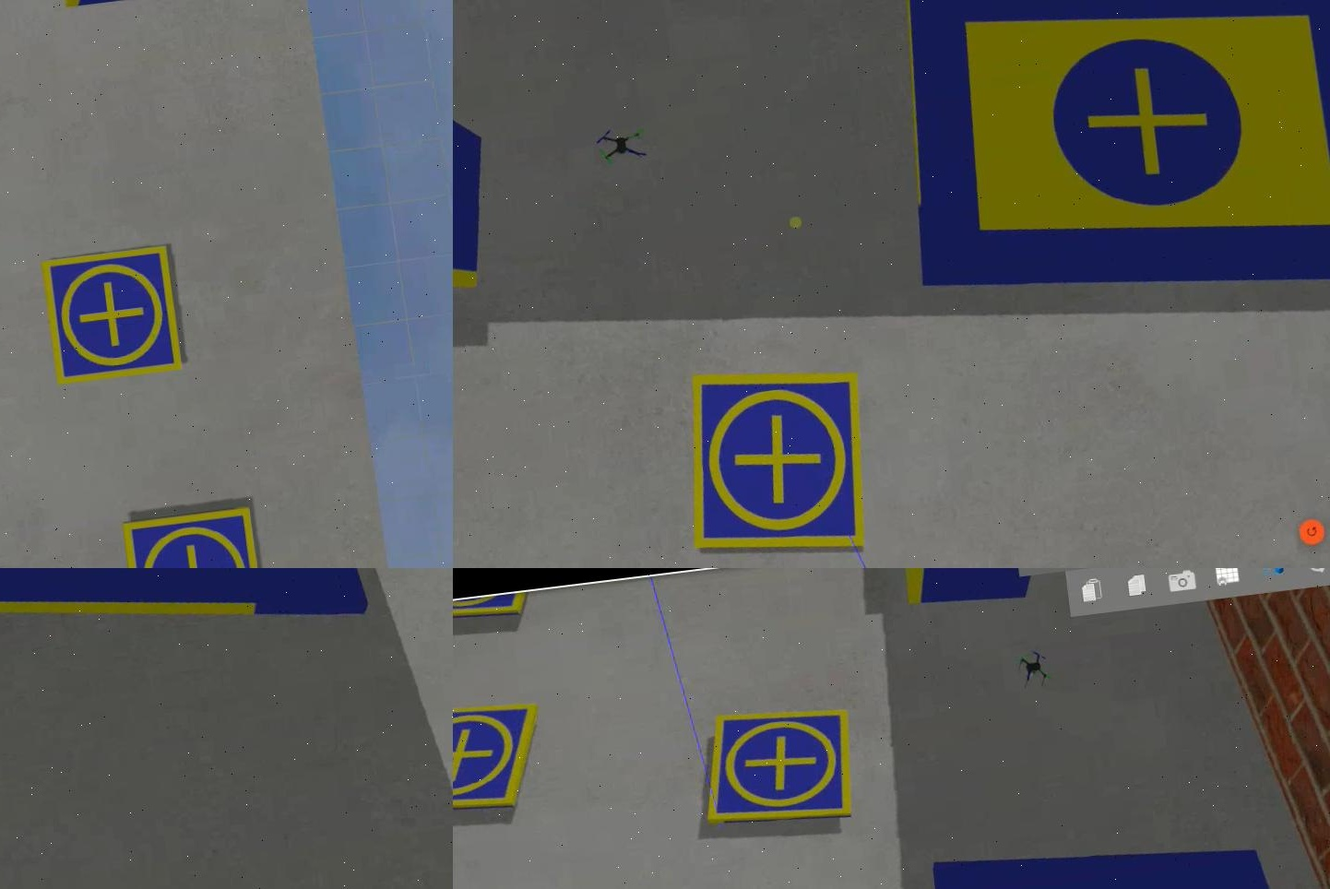large_base: (883, 1, 1328, 339), (0, 568, 367, 665)
small_base: (672, 350, 877, 568), (692, 702, 863, 841), (42, 245, 180, 389), (452, 698, 546, 831), (118, 505, 267, 568)
